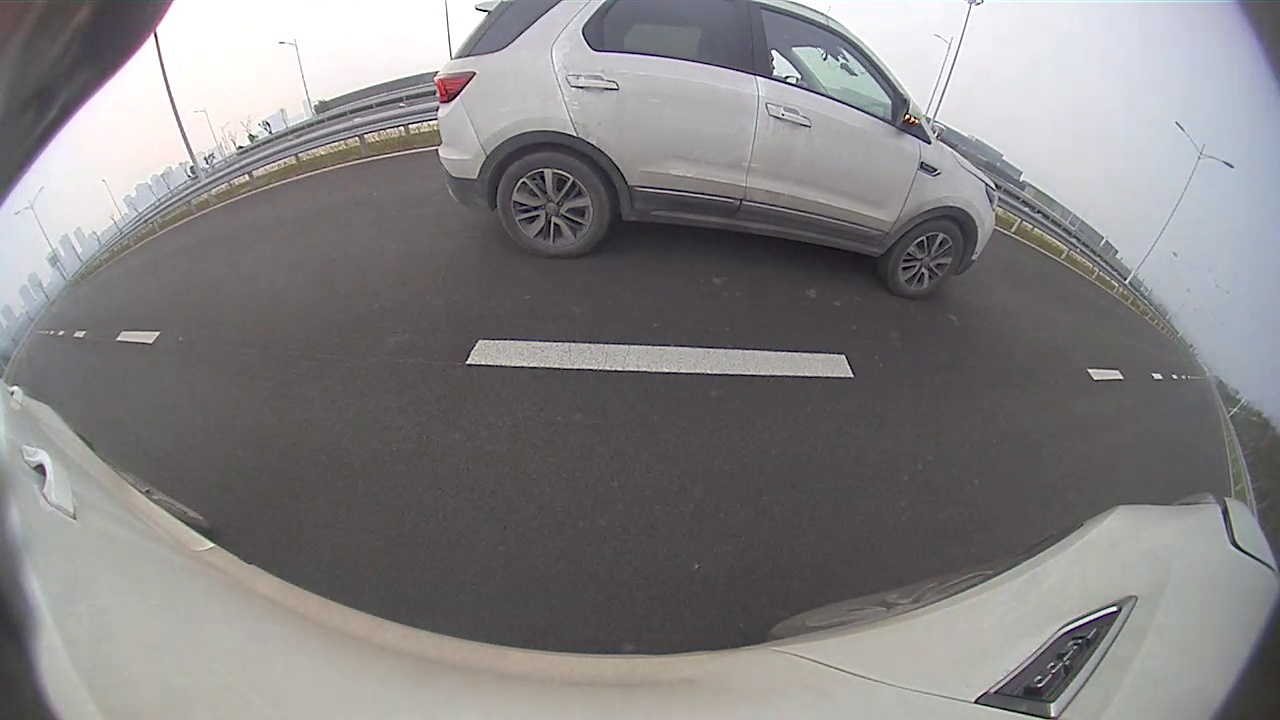car: (432, 2, 998, 299)
front: (888, 218, 966, 299)
rear: (497, 153, 611, 258)
